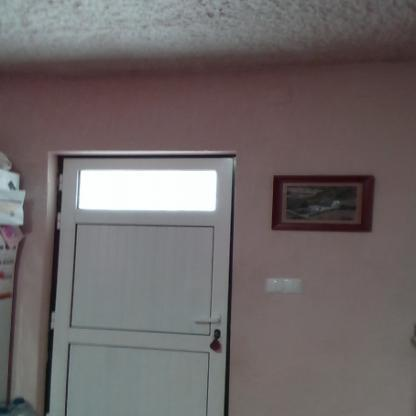door: (61, 160, 229, 415)
hinged: (54, 212, 63, 230), (50, 310, 57, 330), (57, 172, 64, 191), (44, 408, 50, 416)
lever: (190, 316, 224, 325)
